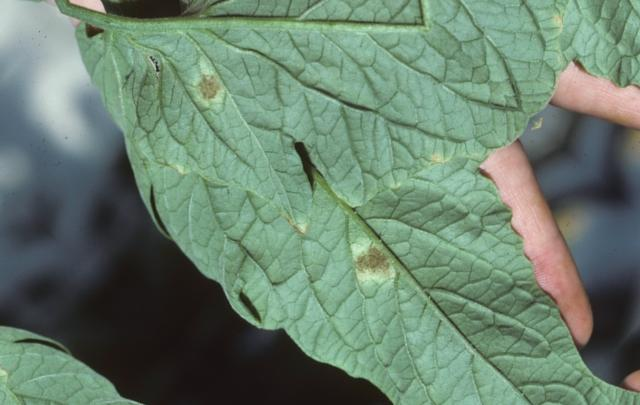Tomato mold leaf: (26, 0, 640, 405), (36, 0, 556, 353)
